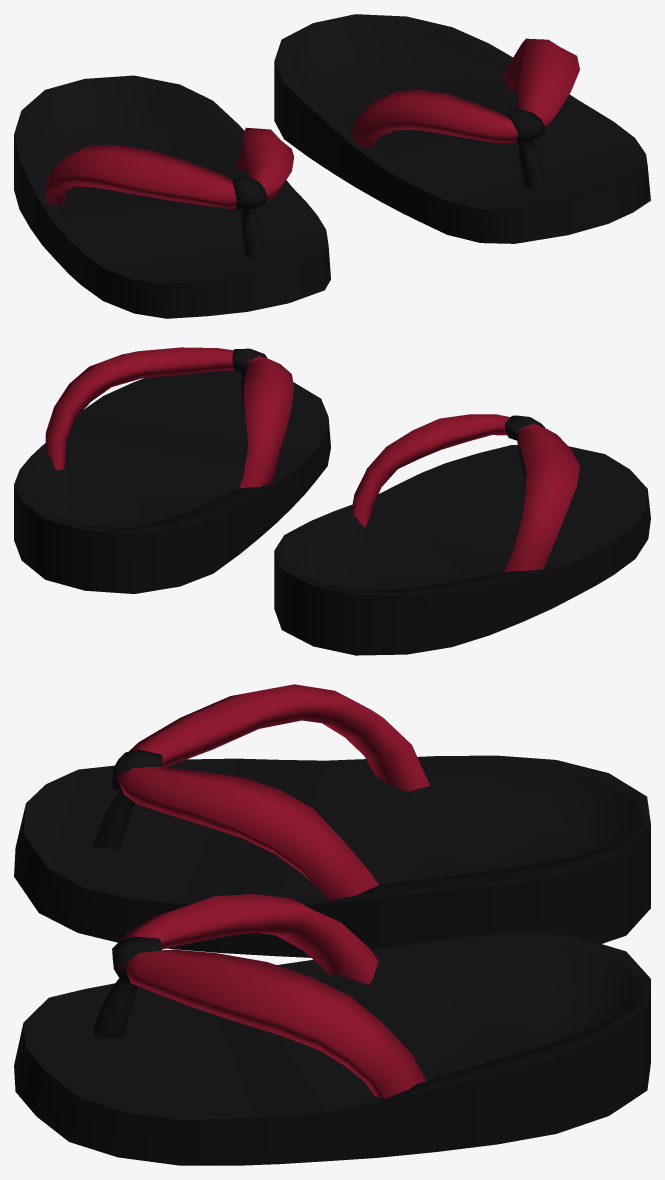
Rendered from ShoesSandalZori0.glb.
3 renders of one model, top to bottom at view 1: azimuth 30°, elevation 25°; view 2: azimuth 150°, elevation 25°; view 3: azimuth 270°, elevation 25°, orthographic. The views are drawn at different scales.
Visible parts, largest first — view 1: Body__mShoes; view 2: Body__mShoes; view 3: Body__mShoes.
Part boxes in pixels (x1=…): Body__mShoes: x1=14, y1=14, x2=650, y2=318; Body__mShoes: x1=14, y1=347, x2=650, y2=655; Body__mShoes: x1=14, y1=684, x2=650, y2=1165.
Size of the model in its own units: 3.32 by 0.6534 by 2.48.
Materials: 1 (1 with a texture image).
